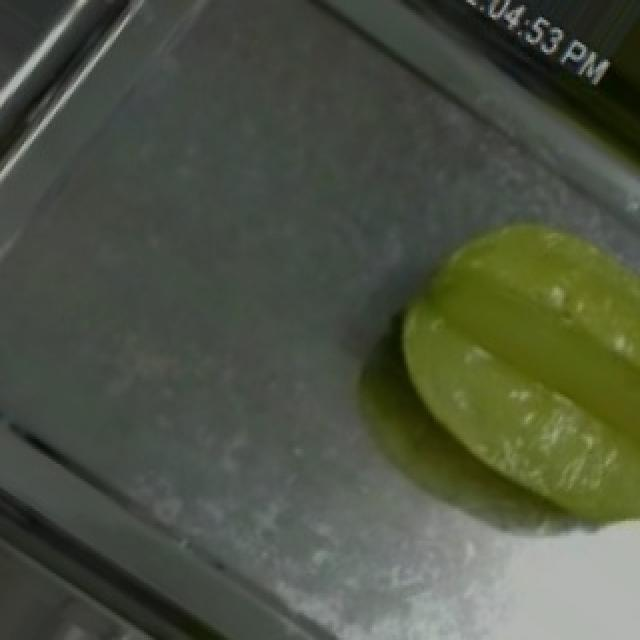fruit: (350, 169, 638, 548)
